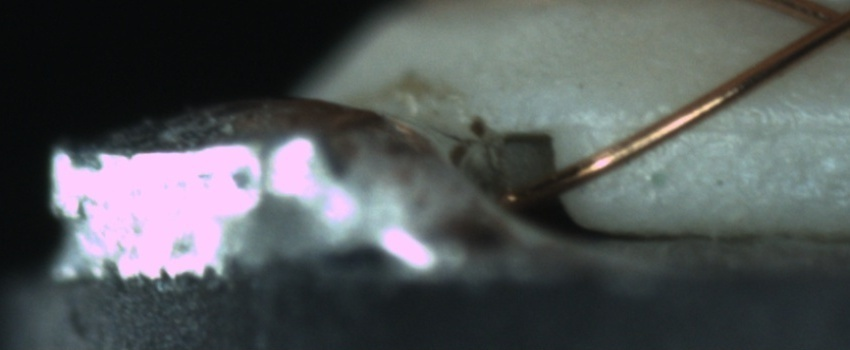CL: (793, 0, 850, 48)
DL: (605, 94, 849, 158)
